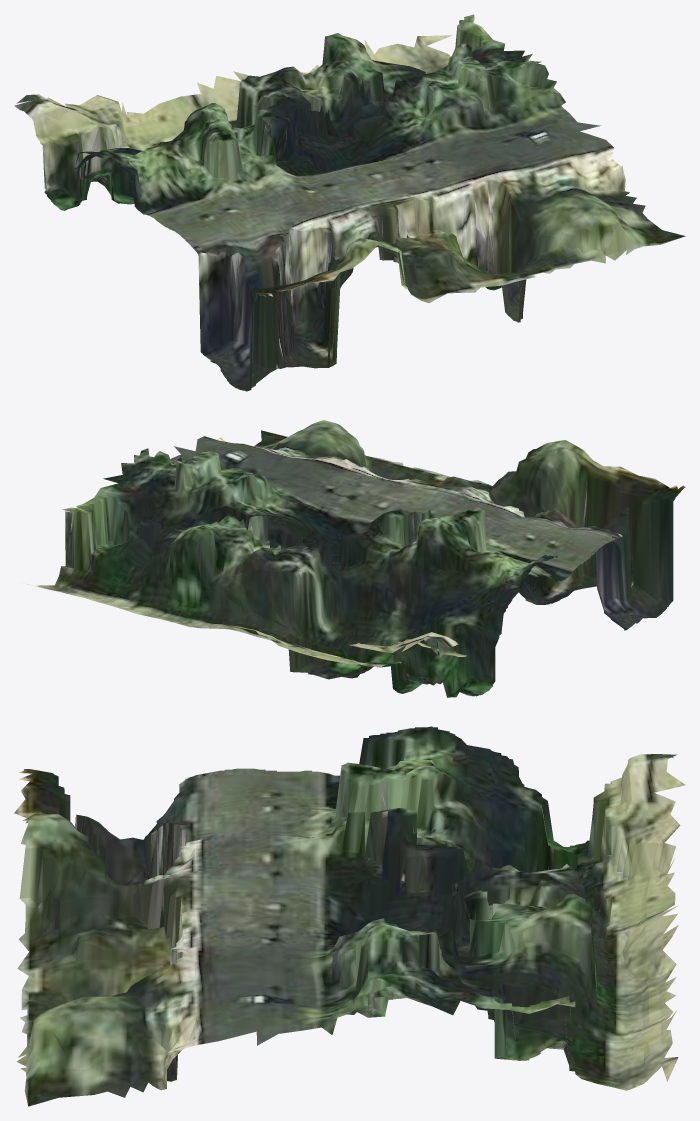
Rendered from Tile_000_000_L14_2121.glb.
3 renders of one model, top to bottom at view 1: azimuth 30°, elevation 25°; view 2: azimuth 150°, elevation 25°; view 3: azimuth 270°, elevation 25°, orthographic. The views are drawn at different scales.
Parts seen in each view (by area): view 1: rtc; view 2: rtc; view 3: rtc.
Boxes of the visible parts, bbox=[...] form: rtc: bbox=[14, 14, 685, 391]; rtc: bbox=[27, 420, 685, 697]; rtc: bbox=[14, 726, 685, 1106].
Bounding box in the file's own units: 58.11 × 20.6 × 58.41.
Materials: 1 (1 with a texture image).
